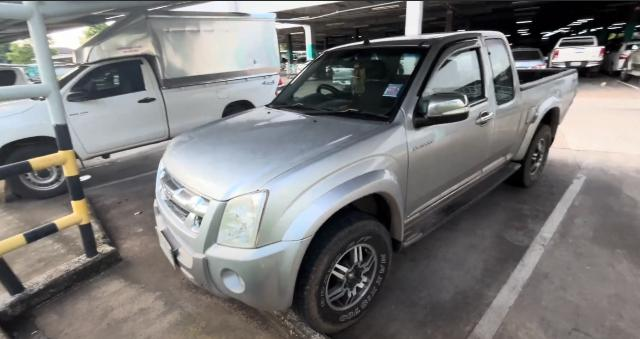pickup-truck: (154, 31, 578, 332)
